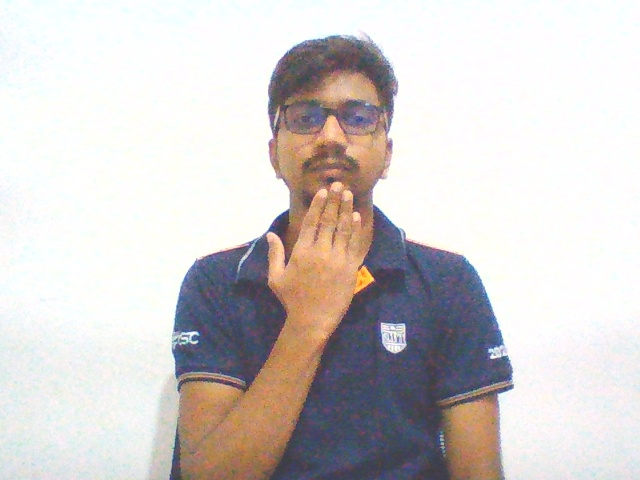mango: (259, 176, 368, 351)
